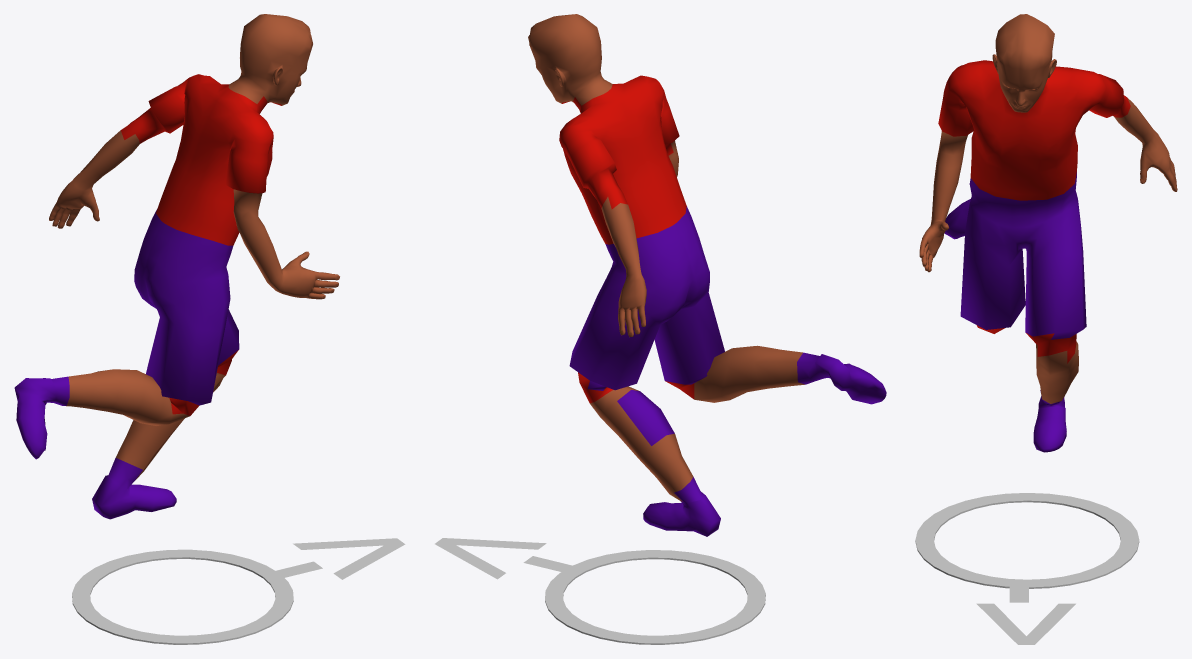
Rendered from player_000011.obj.
3 renders of one model, left to right at view 1: azimuth 30°, elevation 25°; view 2: azimuth 150°, elevation 25°; view 3: azimuth 270°, elevation 25°, orthographic.
Parts seen in each view (by area): view 1: soccerplayer.002_mesh.003, Circle, Text.001_Mesh.001; view 2: soccerplayer.002_mesh.003, Circle, Text.001_Mesh.001; view 3: soccerplayer.002_mesh.003, Circle, Text.001_Mesh.001.
Part boxes in pixels (x1,y1,x2,y2): soccerplayer.002_mesh.003: [14, 14, 339, 519]; Circle: [72, 549, 293, 644]; Text.001_Mesh.001: [271, 538, 405, 579]; soccerplayer.002_mesh.003: [528, 14, 886, 536]; Circle: [545, 550, 765, 644]; Text.001_Mesh.001: [435, 538, 575, 579]; soccerplayer.002_mesh.003: [919, 14, 1177, 452]; Circle: [915, 493, 1139, 588]; Text.001_Mesh.001: [976, 581, 1075, 644].
Size of the model in its own units: 2.33 by 3.04 by 1.27.
